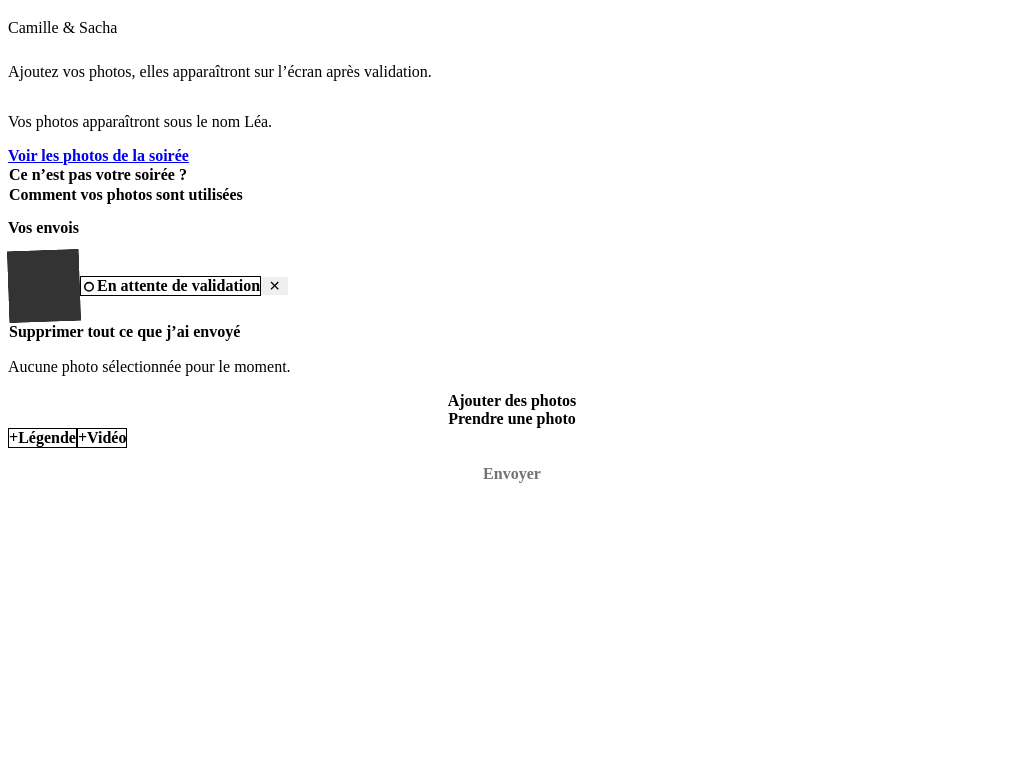
Test: GuestUploadPage › leaves the photo in place when the guest cancels the confirmation
This screenshot has width=1024, height=768.
Click the button named "Supprimer la photo 1": {"x": 275, "y": 286} [261,277,288,295]
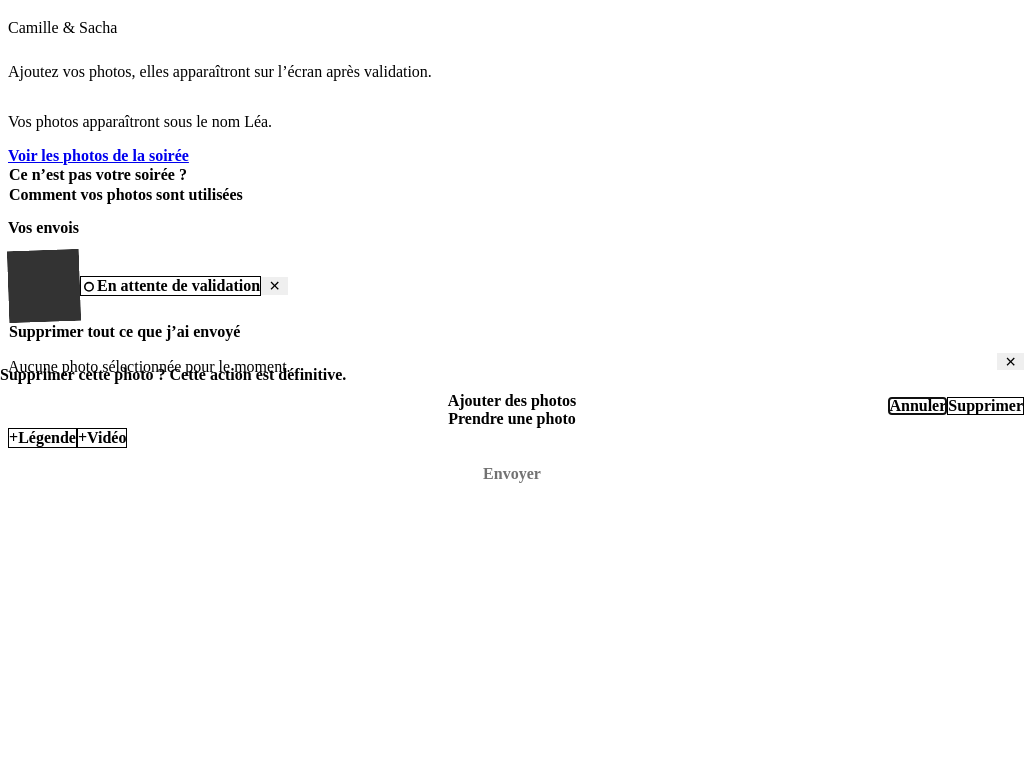
Click the button "Annuler": {"x": 918, "y": 406} [888,397,947,415]
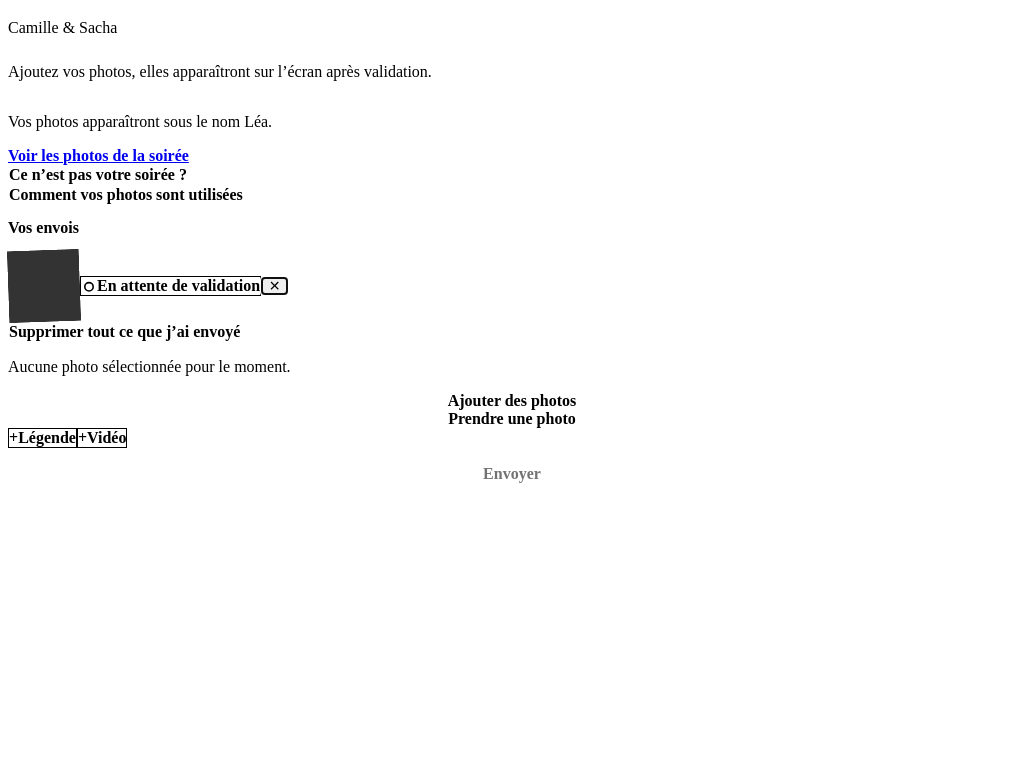
Expected: the text "En attente de validation" is shown, [80,276,261,296]
Result: the heading "Supprimer cette photo ? Cette action est définitive." is gone
